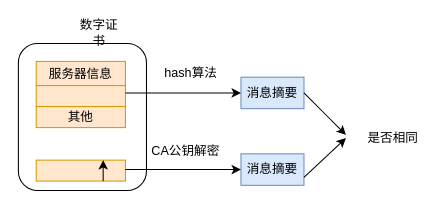
The diagram is 448 pixels wide and 209 high, and some of its shapes have lost their labels. Here are the shapes that lost their labels. From the top down, the box of each, then its label:
(35, 85, 125, 107): 服务器公钥
(35, 159, 125, 181): 数字签名
